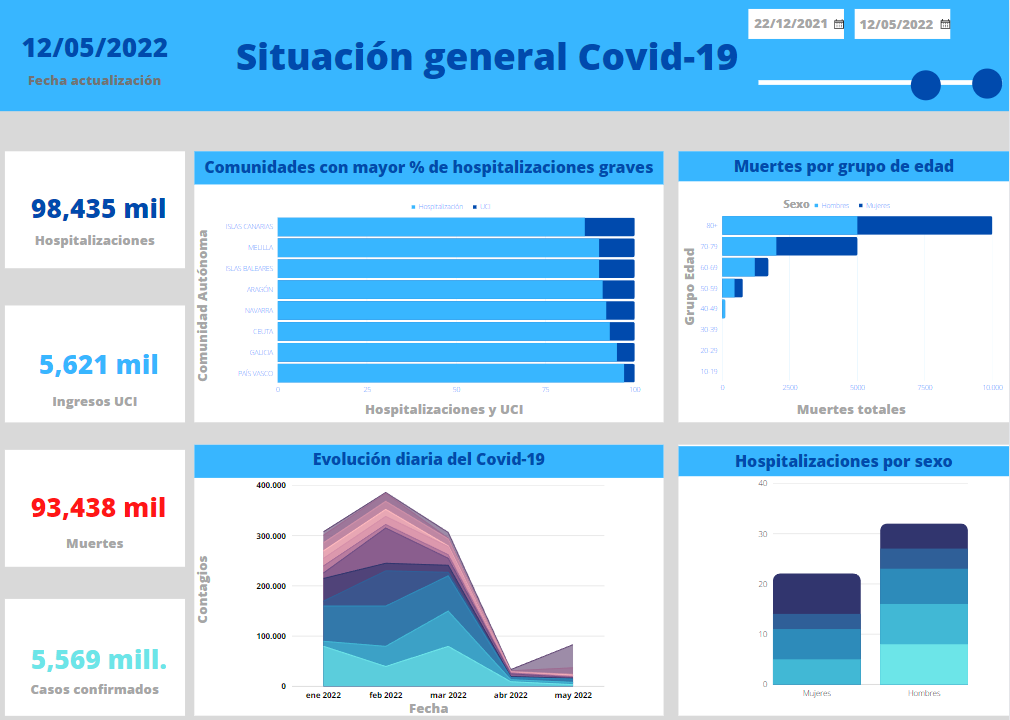

What the dashboard file says about the page in this screenshot:
{"tool":"powerbi","page":{"name":"Resumen","canvas":[1280,720],"ordinal":0},"visuals":[{"type":"areaChart","title":"Evolución diaria del Covid-19","fields":{"Category":["DIM_CALENDARIO.ID_FECHA"],"Y":["FACT_CASOS.IA media 14 dias"],"Y2":["FACT_CASOS.Muertes media 14 dias","FACT_CASOS.‰  Letalidad en 14 dias"]},"box":[303.8,400,576.2,303.8],"z":0},{"type":"columnChart","title":"Hospitalizaciones por sexo","fields":{"Y":["FACT_CASOS.Hospitalizaciones totales"],"Category":["DIM_DEMOGRAFIA.SEXO"],"Series":["DIM_DEMOGRAFIA.GRUPO_EDAD"]},"box":[896,400,368,304],"z":1000},{"type":"card","fields":{"Values":["FACT_CASOS.Casos totales"]},"box":[16,96,272,136],"z":2000},{"type":"card","fields":{"Values":["FACT_CASOS.Hospitalizaciones totales"]},"box":[15.3,247.7,271.3,136.3],"z":3000},{"type":"card","fields":{"Values":["FACT_CASOS.Muertes totales"]},"box":[16,560,272,144],"z":4000},{"type":"card","fields":{"Values":["FACT_CASOS.UCI totales"]},"box":[16,400,272,144],"z":5000},{"type":"card","fields":{"Values":["FACT_CASOS.Datos de"]},"box":[16.7,9.7,285.2,76.5],"z":6000},{"type":"hundredPercentStackedBarChart","title":"Comunidades con mayor % de hospitalizaciones graves","fields":{"Y":["FACT_CASOS.Hospitalizaciones totales","FACT_CASOS.UCI totales"],"Category":["DIM_PROVINCIAS.CCAA"]},"box":[304,96,576,288],"z":7000},{"type":"actionButton","box":[16.9,9.6,100.1,39.8],"z":8000},{"type":"barChart","title":"Muertes por grupo de edad","fields":{"Y":["FACT_CASOS.Muertes totales"],"Series":["DIM_DEMOGRAFIA.SEXO"],"Category":["DIM_DEMOGRAFIA.GRUPO_EDAD"]},"box":[896,96,368,288],"z":9000},{"type":"slicer","fields":{"Values":["DIM_CALENDARIO.ID_FECHA"]},"box":[867.1,9.6,396.8,77.2],"z":10000},{"type":"textbox","box":[291.2,10,588.8,76.2],"z":11000}]}

Visuals, with their boxes on the page's 1280x720 design canvas (x1, y1, x2, y2). These are canvas units, not pixel positions in the 1010x720 screenshot, which may show the page scaled, cropped or inside an application window:
"Evolución diaria del Covid-19" areaChart: 304:400:880:704
"Hospitalizaciones por sexo" columnChart: 896:400:1264:704
card - FACT_CASOS.Casos totales: 16:96:288:232
card - FACT_CASOS.Hospitalizaciones totales: 15:248:287:384
card - FACT_CASOS.Muertes totales: 16:560:288:704
card - FACT_CASOS.UCI totales: 16:400:288:544
card - FACT_CASOS.Datos de: 17:10:302:86
"Comunidades con mayor % de hospitalizaciones graves" hundredPercentStackedBarChart: 304:96:880:384
actionButton: 17:10:117:49
"Muertes por grupo de edad" barChart: 896:96:1264:384
slicer - DIM_CALENDARIO.ID_FECHA: 867:10:1264:87
textbox: 291:10:880:86
